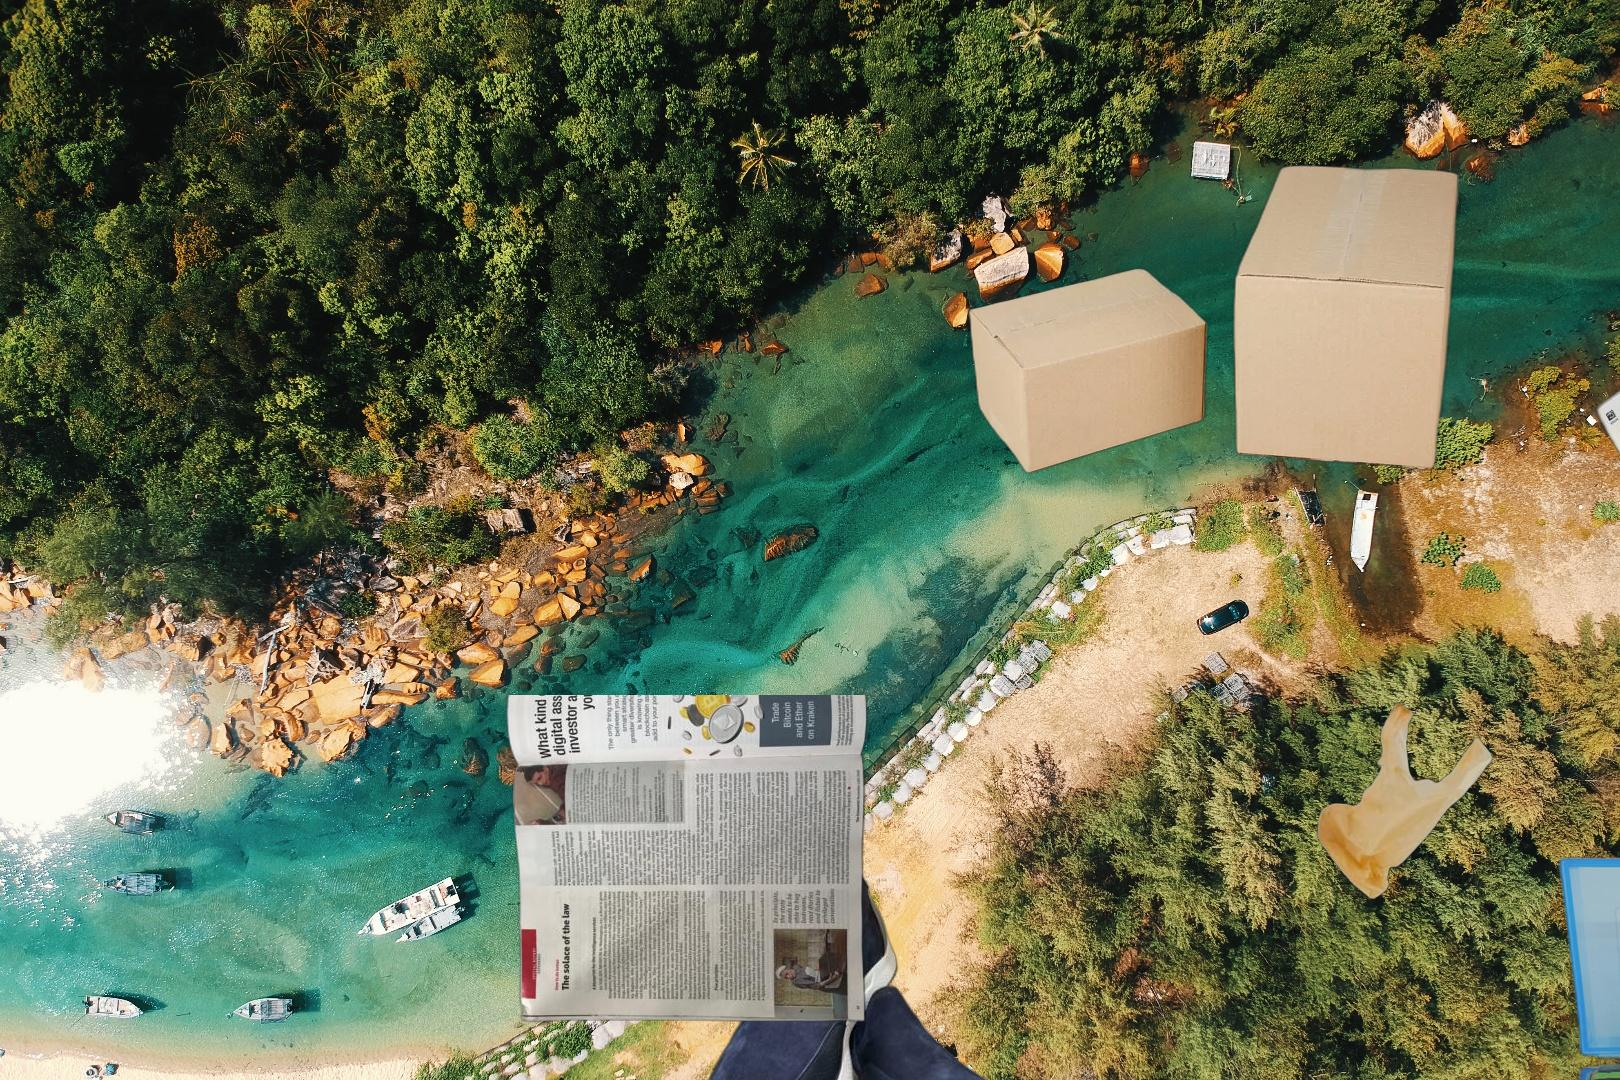battery: (1548, 844, 1620, 1080)
paper: (503, 695, 871, 1025), (1592, 265, 1620, 648)
plastic-bag: (1315, 700, 1496, 900)
shoes: (642, 856, 1043, 1080)
trashbox-cardboard: (920, 149, 1465, 477)
